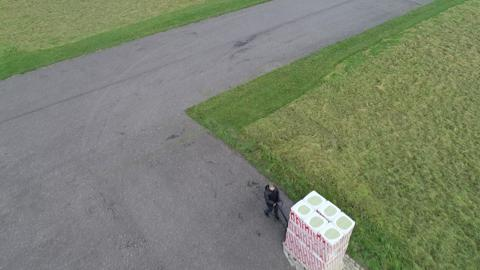RockwoolPallet: (284, 191, 356, 270)
